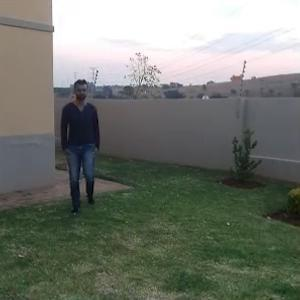follow: (45, 70, 100, 233)
